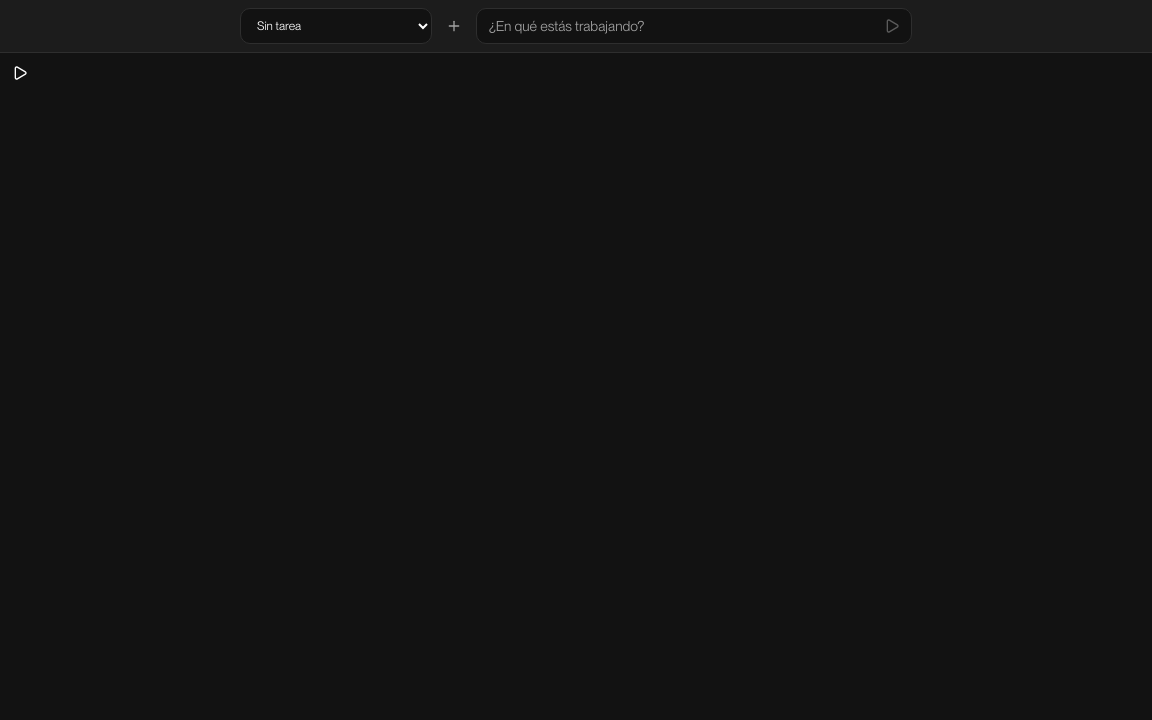
it: labels quick-create fields for assistive technology
The width and height of the screenshot is (1152, 720).
Click the button named "Crear tarea rápida": click(454, 26) [440, 12, 468, 40]
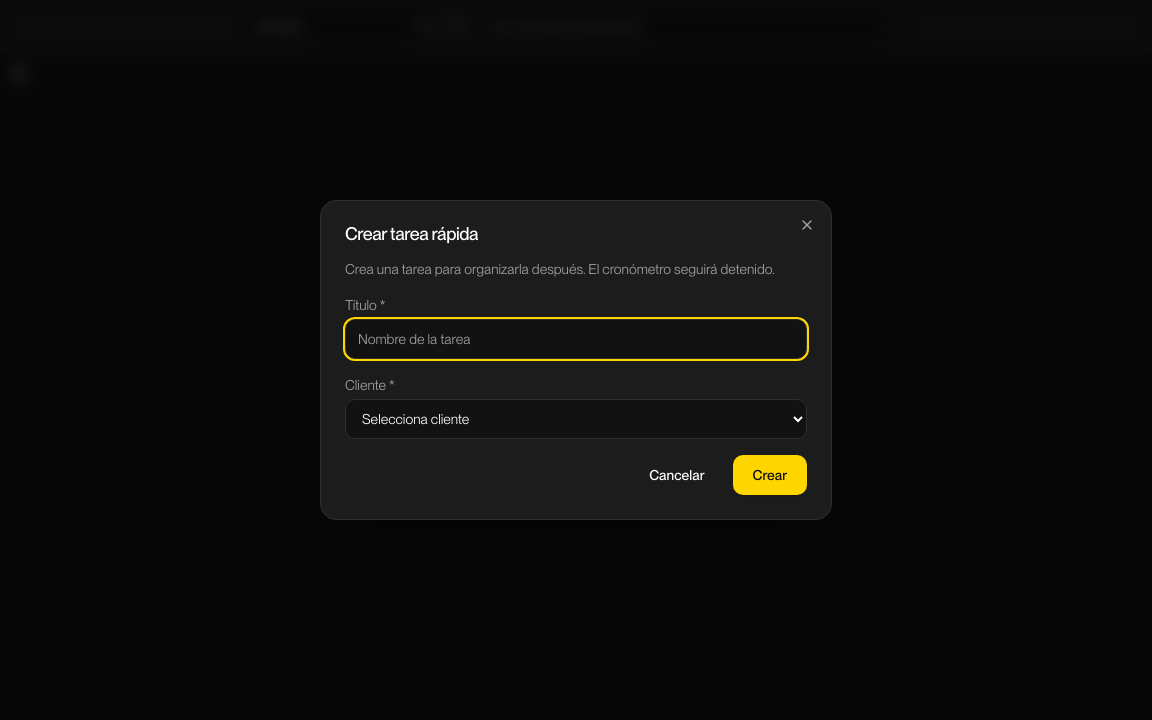
Now the dropdown labelled "Cliente *" shows "Selecciona cliente"
Select "Cliente" in the dropdown labelled "Cliente *": (576, 419) [345, 399, 807, 439]
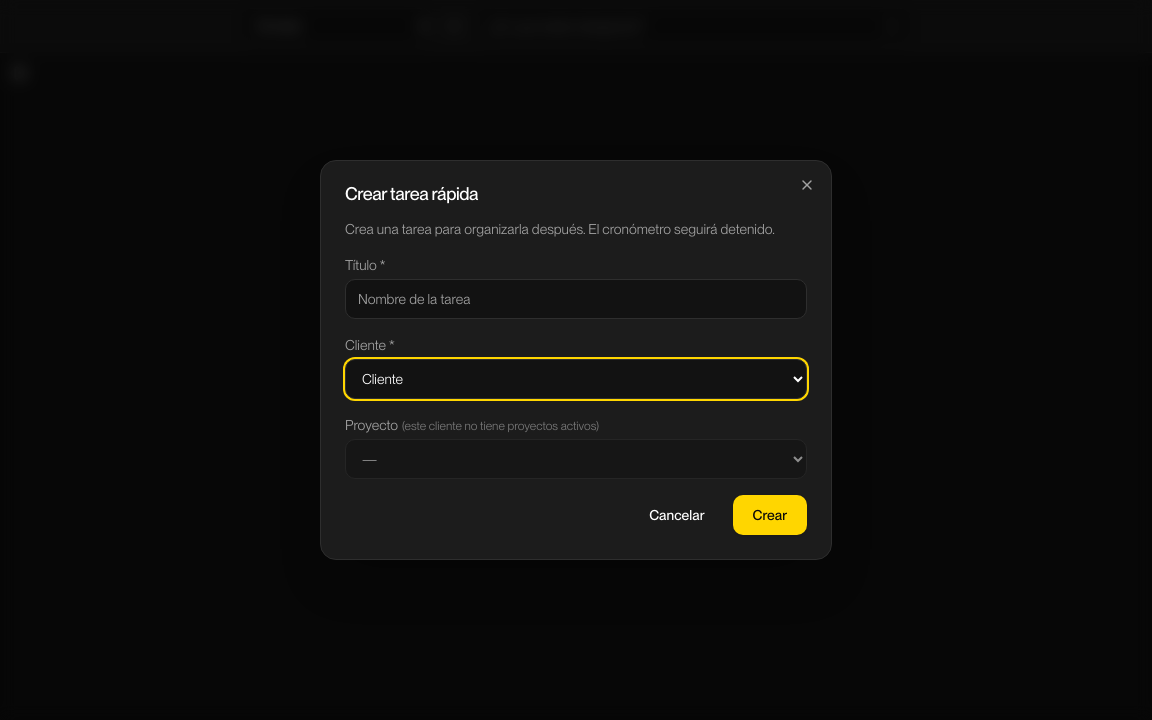
Now the dropdown labelled "Proyecto(este cliente no tiene proyectos activos)" is disabled, box [345, 439, 807, 479]
